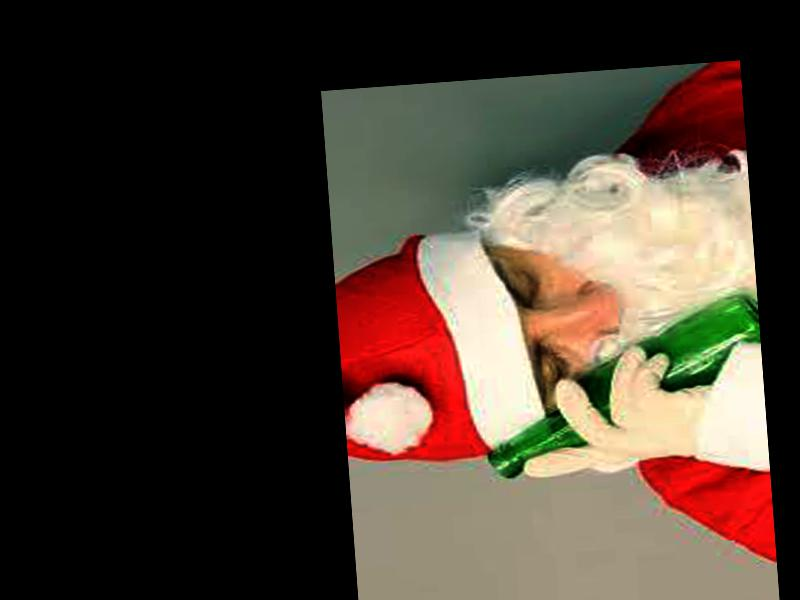Beer: (480, 297, 769, 481)
